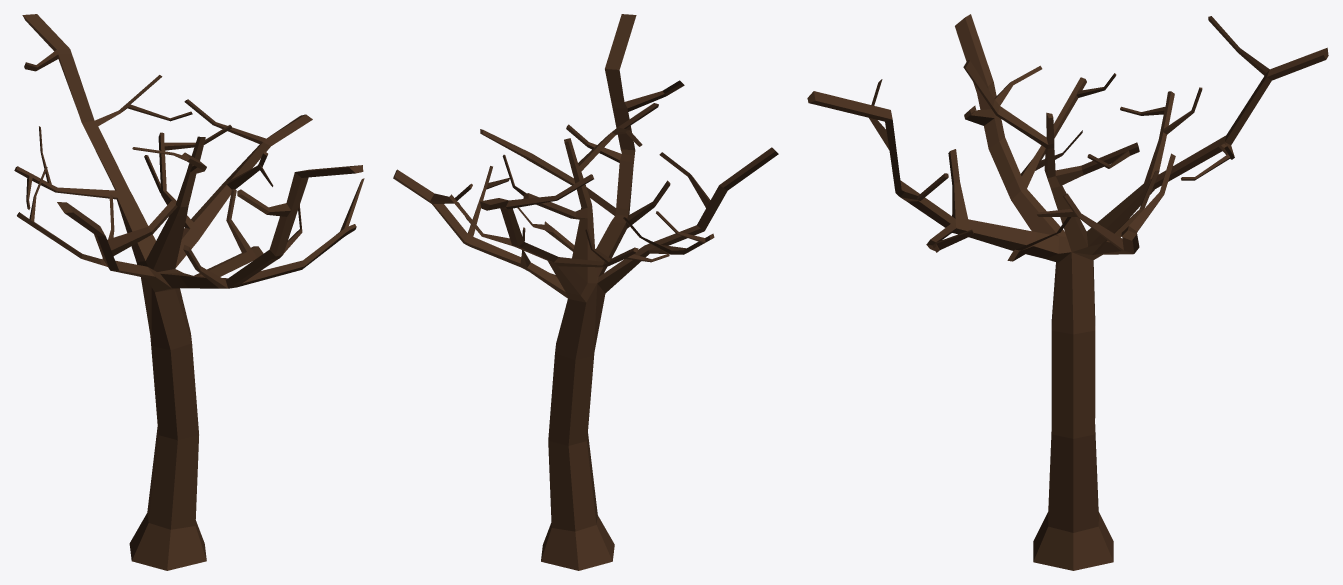
Rendered from TreeTrunk.fbx.
3 views of the same model, side by side, from view 1: azimuth 30°, elevation 25°; view 2: azimuth 150°, elevation 25°; view 3: azimuth 270°, elevation 25° (orthographic). The views are drawn at different scales.
Visible parts, largest first — view 1: Cube.001; view 2: Cube.001; view 3: Cube.001.
Part boxes in pixels (bbox=[...]): Cube.001: bbox=[14, 14, 364, 570]; Cube.001: bbox=[393, 14, 778, 570]; Cube.001: bbox=[807, 14, 1328, 570].
Bounding box in the file's own units: 1003 × 1356 × 1293.
